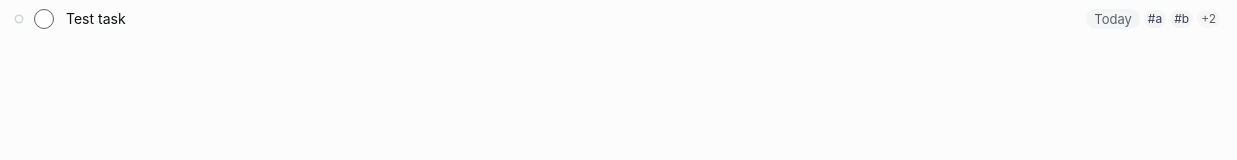
Test case: TaskListRow › tag chips › overflow "+N" click expands all tags
Step 1. Click the button named "2 more tags" → x=1209, y=19, box x1=1197 y1=10 x2=1220 y2=28
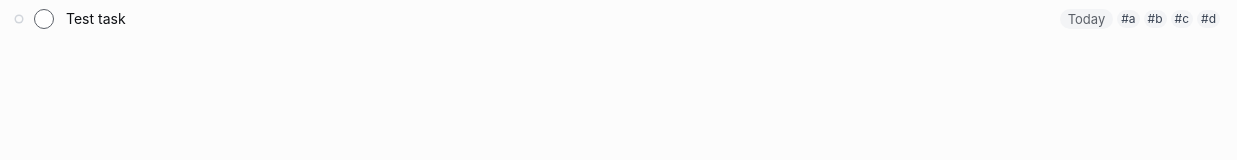
Expected: the button named "Filter by tag a" is shown, x1=1117 y1=10 x2=1140 y2=28
Now the button named "Filter by tag c" is shown, box x1=1171 y1=10 x2=1193 y2=28
Now the button named "Filter by tag d" is shown, box x1=1197 y1=10 x2=1220 y2=28
